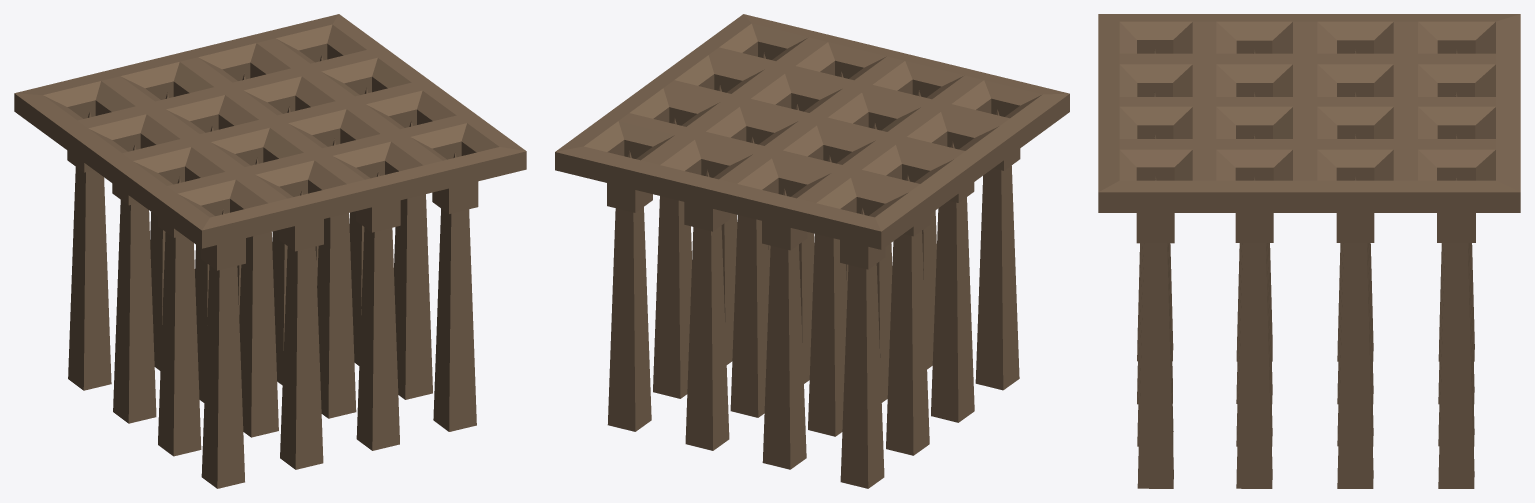
Rendered from corridor_spike_trap.fbx.
3 renders of one model, left to right at view 1: azimuth 30°, elevation 25°; view 2: azimuth 150°, elevation 25°; view 3: azimuth 270°, elevation 25°, orthographic. The views are drawn at different scales.
Visible parts, largest first — view 1: Cone, Cube.003; view 2: Cone, Cube.003; view 3: Cube.003, Cone.
Boxes of the visible parts, bbox=[...] form: Cone: bbox=[68, 55, 476, 488]; Cube.003: bbox=[14, 14, 526, 270]; Cone: bbox=[607, 52, 1019, 488]; Cube.003: bbox=[555, 14, 1069, 269]; Cube.003: bbox=[1098, 14, 1520, 243]; Cone: bbox=[1137, 49, 1474, 488].
Size of the model in its own units: 1075 by 888 by 1075.
